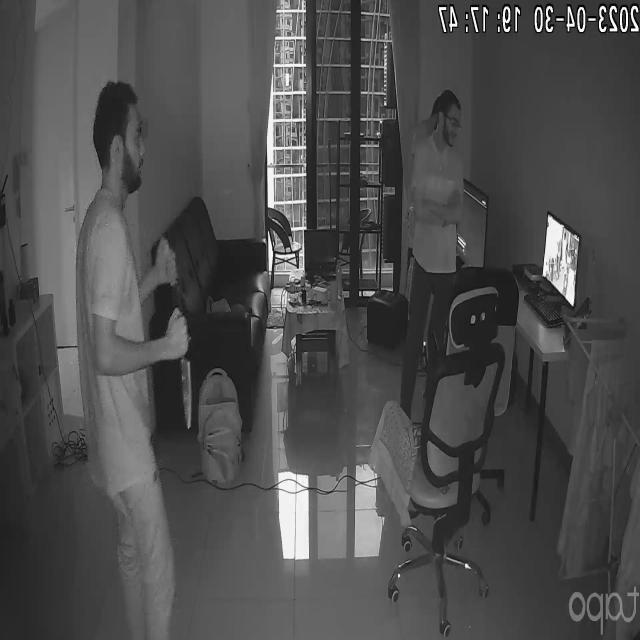Knife: (167, 322, 208, 430)
